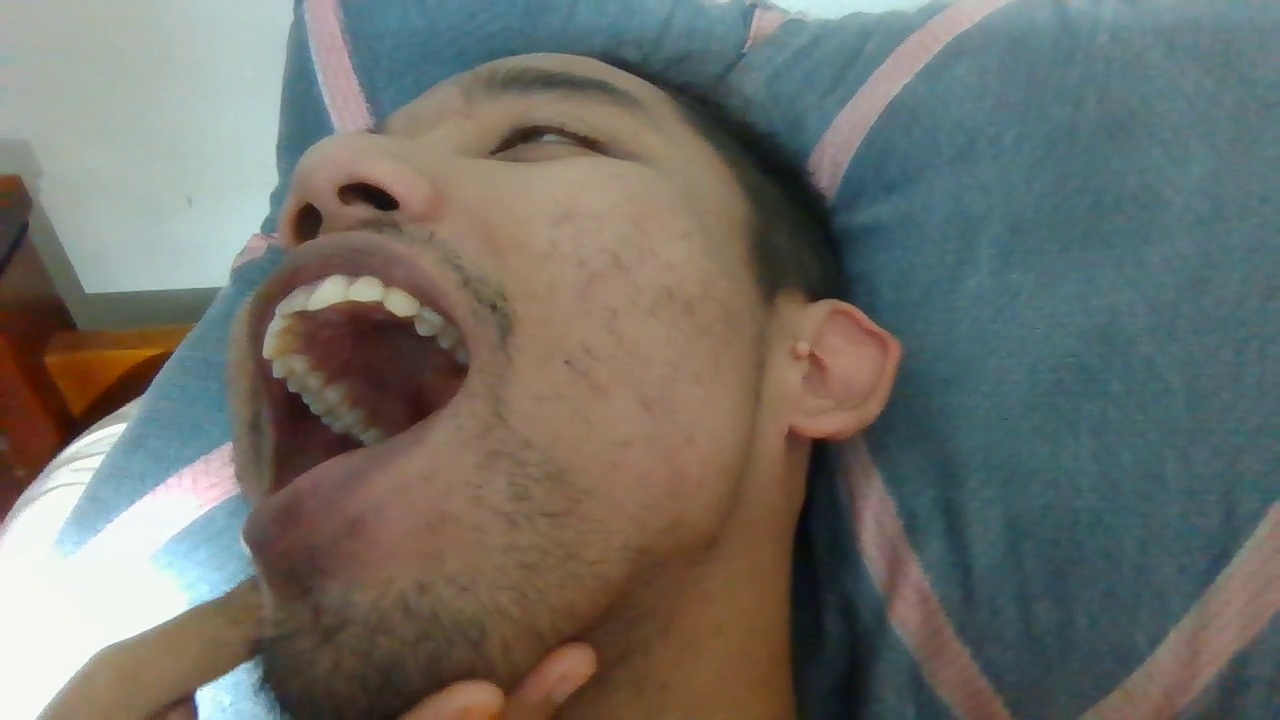1st Molar: (301, 385, 354, 414)
1st Premolar: (415, 304, 449, 335), (270, 354, 310, 375)
2nd Molar: (319, 410, 369, 431)
2nd Premolar: (285, 371, 326, 390)
Canine: (384, 284, 420, 315), (261, 337, 307, 357)
Central Incisor: (308, 271, 348, 308), (275, 280, 308, 315)
Lateral Incisor: (348, 273, 386, 302), (262, 316, 315, 336)
